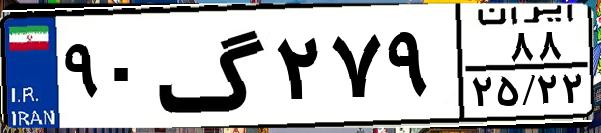0: (110, 28, 156, 98)
2: (270, 28, 330, 110), (560, 70, 590, 125), (470, 70, 495, 125), (535, 70, 560, 125)
5: (495, 70, 520, 125)
7: (330, 28, 385, 110)
8: (537, 27, 568, 80), (508, 27, 537, 80)
9: (385, 28, 445, 110), (57, 26, 110, 100)
گ: (156, 12, 270, 120)
